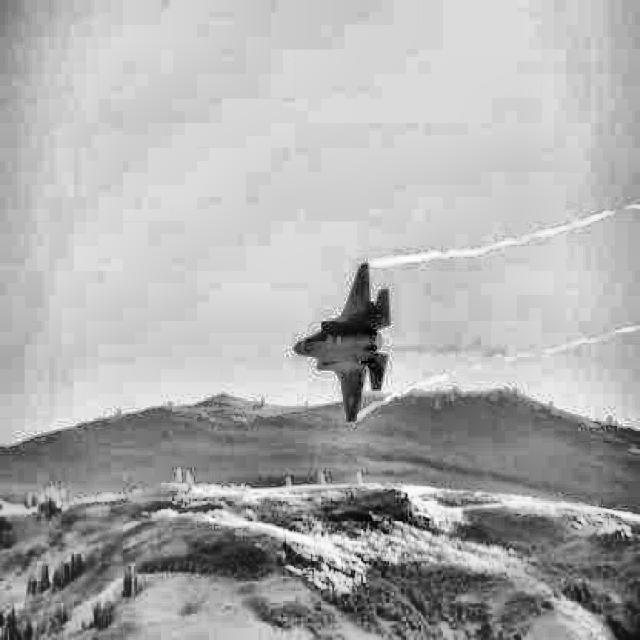F35: (293, 263, 392, 423)
